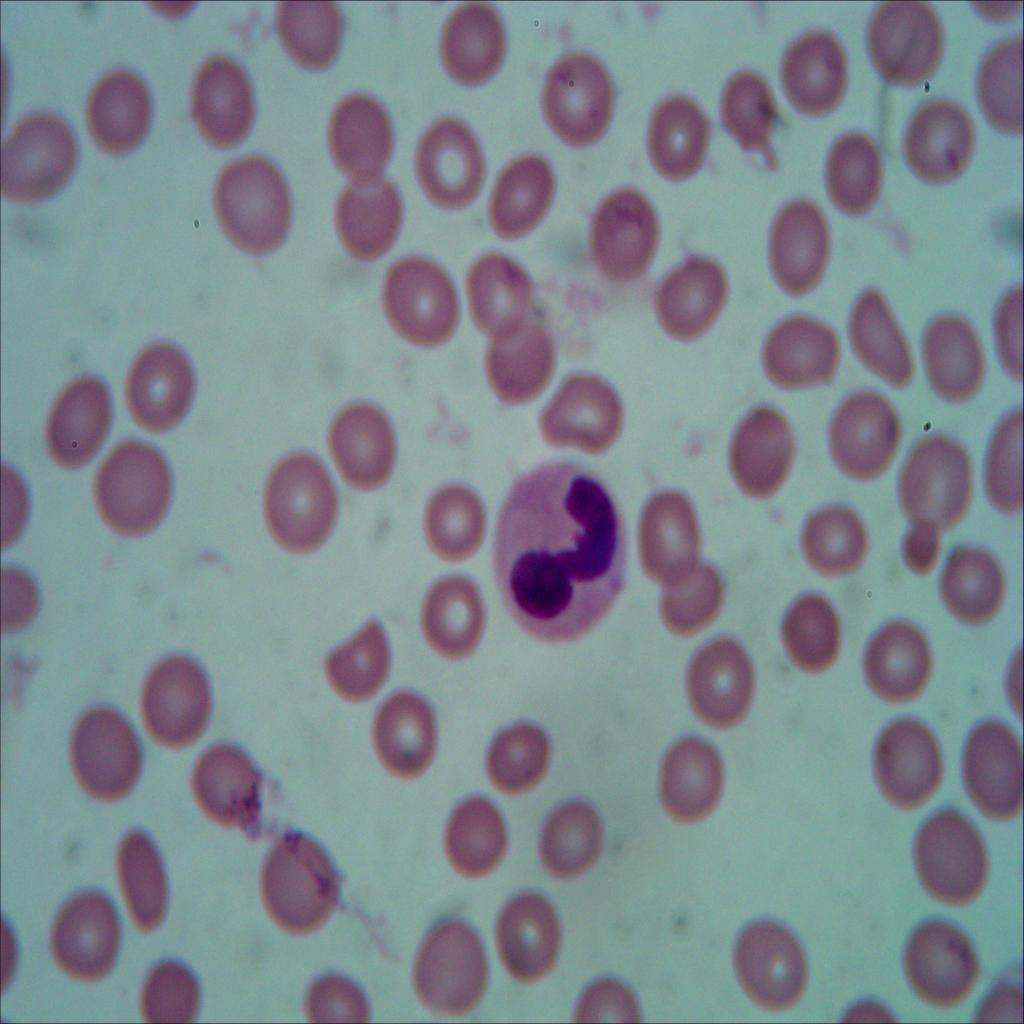Eritrosit: (200, 144, 300, 260), (403, 914, 500, 1024), (895, 422, 979, 537), (86, 434, 180, 534), (756, 192, 843, 298), (0, 112, 86, 217), (182, 44, 261, 157), (916, 294, 998, 400), (907, 806, 993, 907), (860, 714, 948, 812), (256, 826, 338, 930), (383, 249, 461, 358), (824, 389, 912, 485), (859, 604, 937, 712), (957, 709, 1024, 834), (651, 256, 736, 354), (368, 672, 441, 784), (778, 22, 857, 122), (270, 450, 344, 556), (35, 368, 115, 465), (540, 365, 629, 452), (731, 403, 800, 514), (195, 736, 267, 842), (590, 178, 663, 282), (416, 113, 491, 214), (736, 920, 815, 1015), (323, 397, 408, 485), (70, 704, 151, 796), (650, 733, 730, 826), (55, 872, 122, 983), (531, 790, 605, 890), (866, 0, 954, 84), (542, 50, 617, 148), (124, 339, 202, 433), (141, 655, 216, 752), (411, 569, 492, 658), (899, 97, 979, 187), (82, 64, 155, 162), (756, 308, 840, 393), (107, 822, 178, 922), (646, 81, 716, 179), (904, 915, 978, 1007), (326, 87, 396, 184), (482, 148, 554, 241), (693, 637, 760, 736), (439, 0, 512, 89), (943, 542, 1020, 626), (336, 176, 409, 264), (711, 70, 783, 158), (267, 0, 353, 73), (446, 799, 510, 896), (658, 552, 728, 639), (780, 593, 845, 685), (484, 319, 554, 401), (859, 294, 920, 388), (496, 897, 564, 980), (462, 252, 529, 336), (798, 499, 871, 576), (321, 620, 391, 698), (647, 482, 700, 582), (428, 480, 490, 564), (896, 511, 956, 593), (303, 958, 375, 1024), (823, 138, 883, 216), (486, 730, 551, 796), (142, 958, 200, 1024)
Neutrofil: (480, 450, 634, 647)
